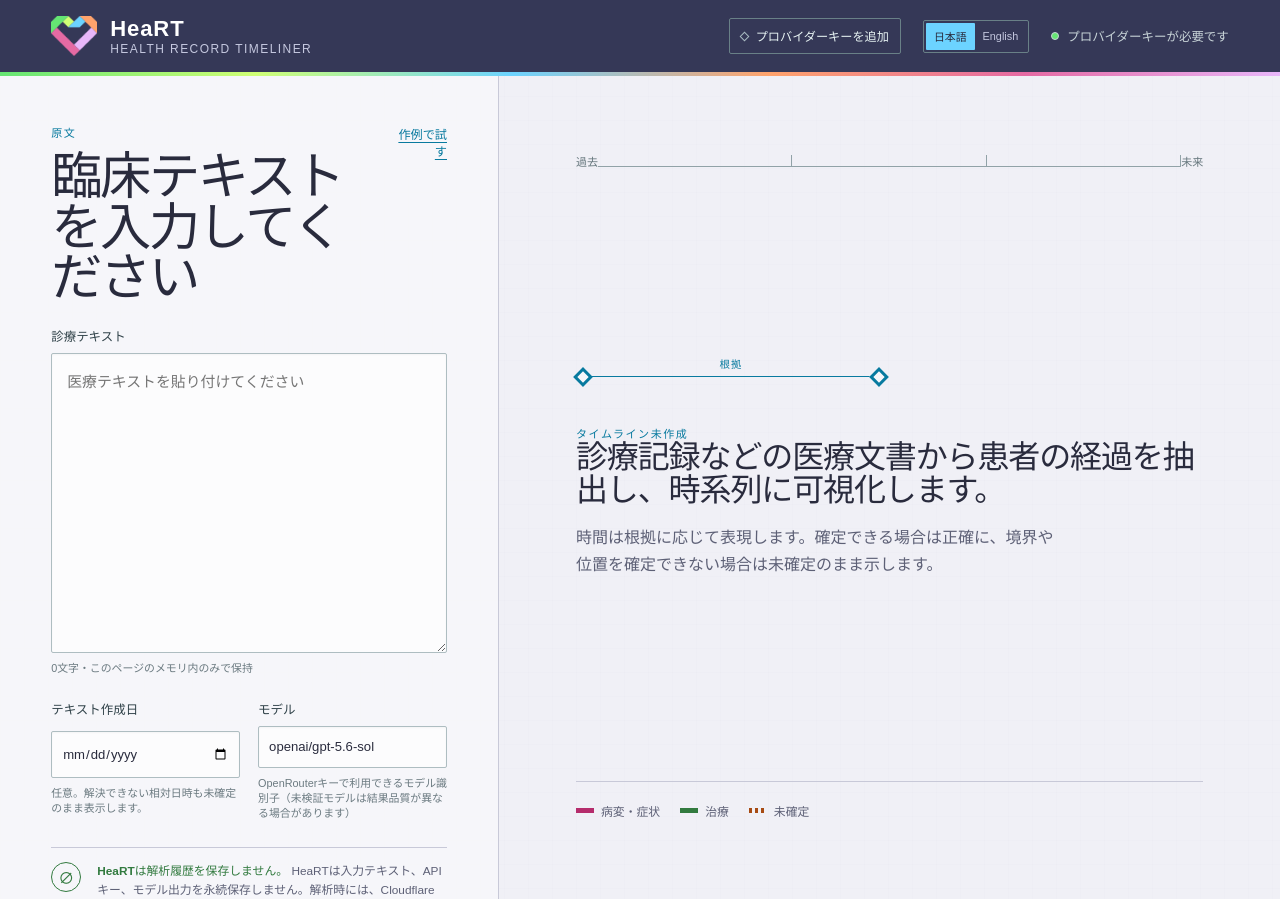
Test: App › defaults to Japanese and switches the complete interface to English
Expected: the heading "臨床テキストを入力してください" is shown, [51, 152, 374, 303]
Expected: the heading "診療記録などの医療文書から患者の経過を抽出し、時系列に可視化します。" is shown, [576, 441, 1203, 508]
Click the button "English".
click(1000, 36)  # box [974, 22, 1026, 50]
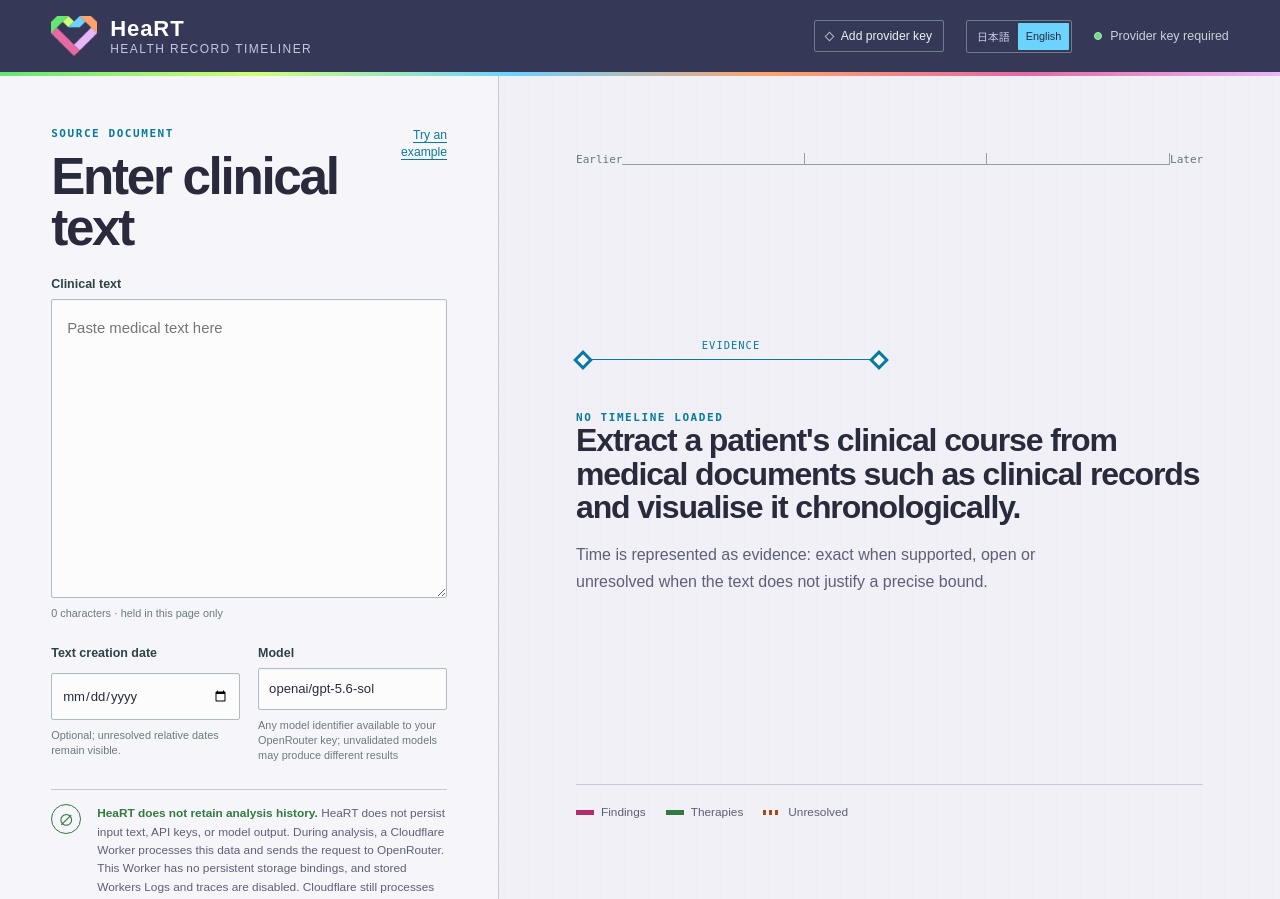
Result: the heading "Enter clinical text" is shown at [51, 152, 356, 253]
Result: the heading "Extract a patient's clinical course from medical documents such as clinical records and visualise it chronologically." is shown at [576, 422, 1200, 525]
Result: the text "Provider key required" is shown at [1094, 29, 1229, 43]
